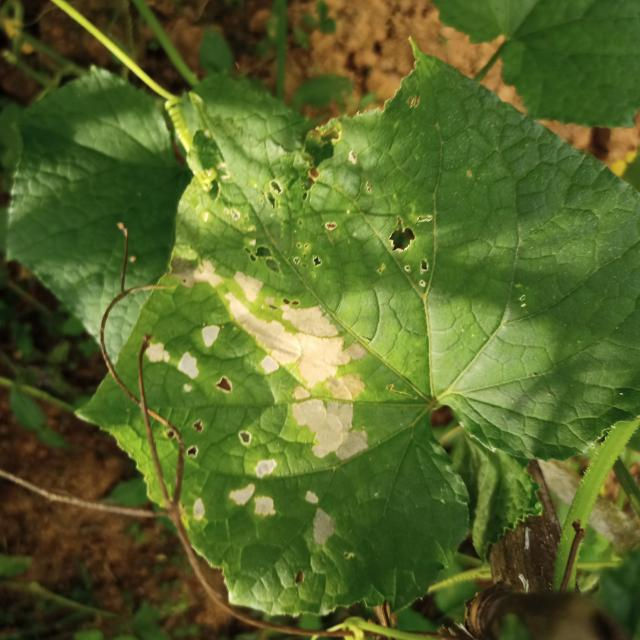disease_cucumber: (144, 253, 372, 546)
